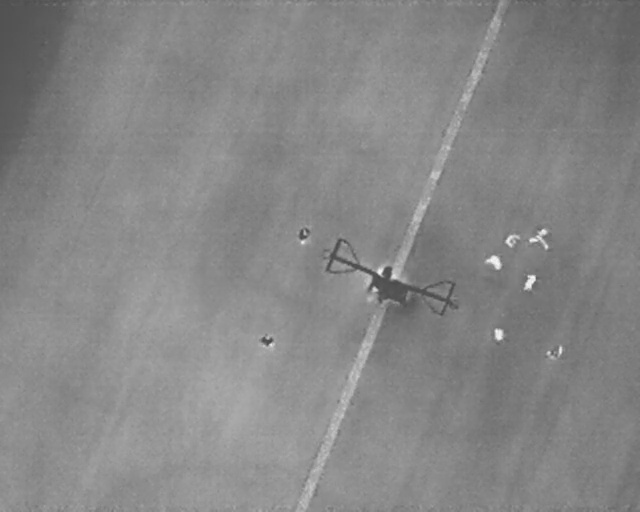Person: (528, 226, 549, 249), (520, 270, 539, 294), (483, 254, 503, 272), (259, 331, 276, 349), (545, 344, 563, 360), (297, 226, 310, 246), (504, 233, 520, 248), (494, 328, 505, 342)
